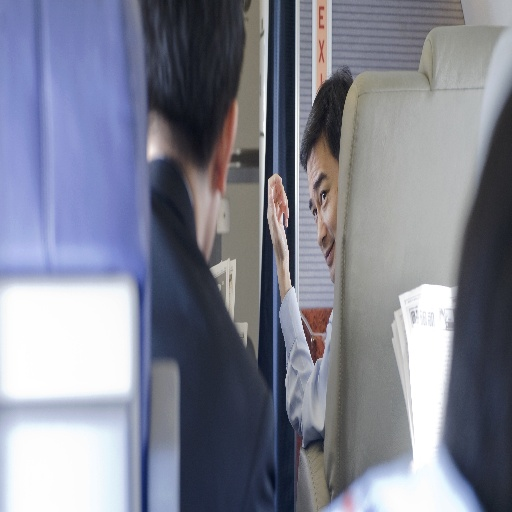hand: (268, 161, 292, 329)
